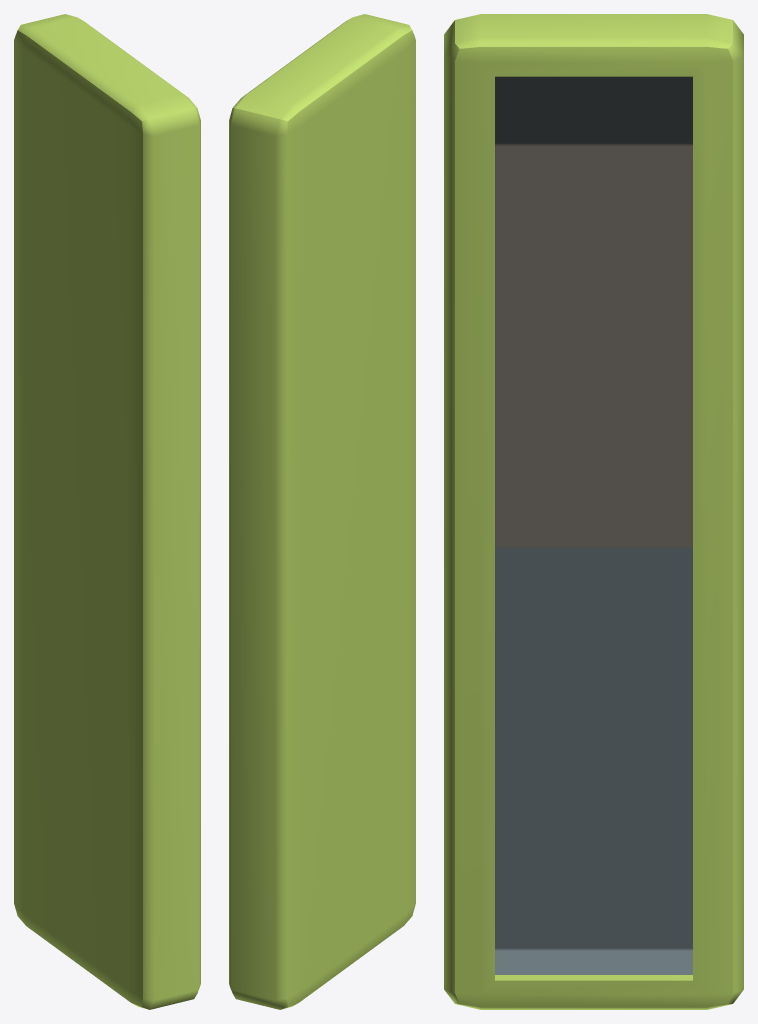
The model's file is BuildingSign_05.fbx.
The picture shows the model from 3 angles, left to right: view 1: azimuth 30°, elevation 25°; view 2: azimuth 150°, elevation 25°; view 3: azimuth 270°, elevation 25°; orthographic projection. The views are drawn at different scales.
Visible parts, largest first — view 1: polySurface1005; view 2: polySurface1005; view 3: polySurface1005.
Part boxes in pixels (box(x1,y1,x2,y2)): polySurface1005: box(14, 14, 200, 1009); polySurface1005: box(229, 14, 415, 1009); polySurface1005: box(444, 14, 743, 1009).
Size of the model in its own units: 0.2228 by 3.03 by 0.8455.
